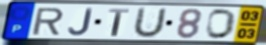8: (176, 8, 204, 40)
J: (67, 8, 94, 37)
O: (205, 8, 238, 40)
R: (30, 7, 65, 36)
T: (107, 7, 131, 37)
U: (130, 6, 169, 40)
